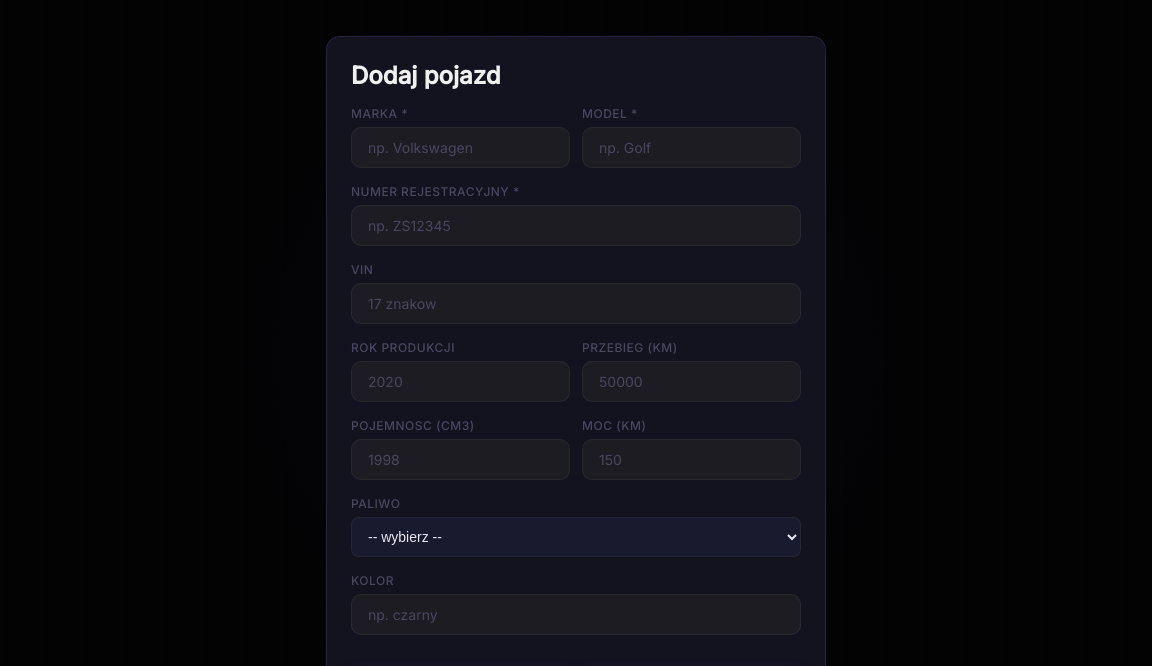
it: CarForm › pokazuje blad gdy zapis sie nie powiedzie
The width and height of the screenshot is (1152, 666).
Type "Toyota" into the field with placeholder "np. Volkswagen" at (460, 148), box x1=351 y1=127 x2=570 y2=168
(page scrolled)
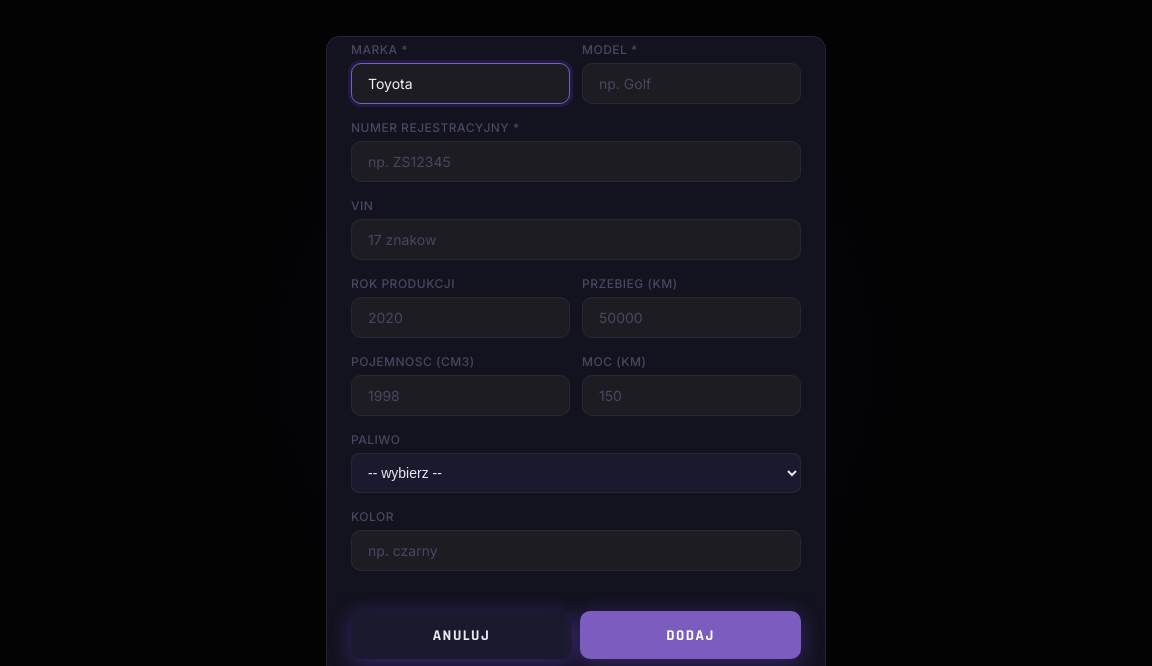
Click the button "Dodaj" at (690, 635), box x1=580 y1=611 x2=801 y2=659
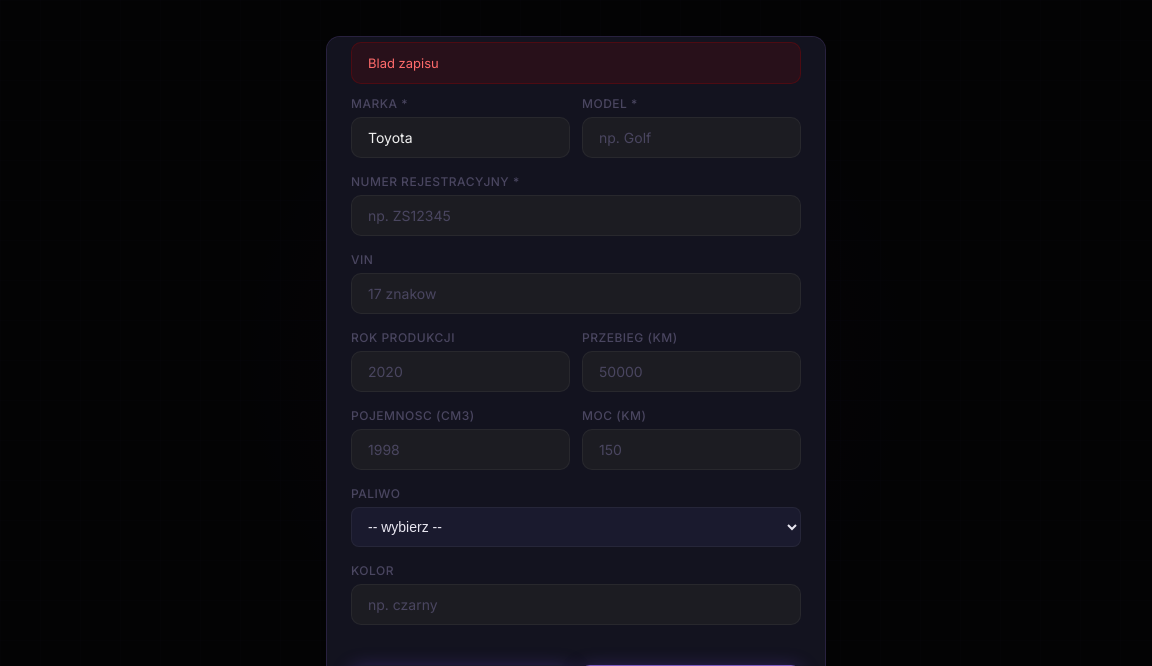
expect the text "Blad zapisu" is shown: met, box x1=351 y1=42 x2=801 y2=84
